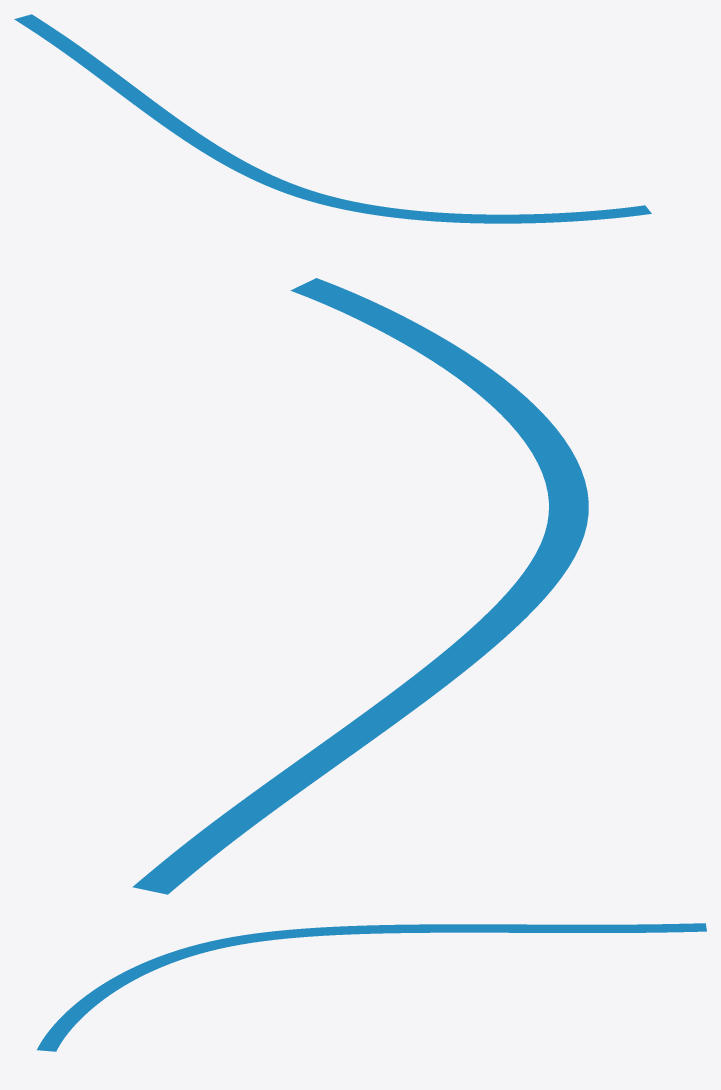
The model's file is guide.glb.
3 views of the same model, one above another, from view 1: azimuth 30°, elevation 25°; view 2: azimuth 150°, elevation 25°; view 3: azimuth 270°, elevation 25° (orthographic). The views are drawn at different scales.
Visible parts, largest first — view 1: static; view 2: static; view 3: static.
Part boxes in pixels (x1=…): static: x1=14, y1=14, x2=651, y2=223; static: x1=132, y1=278, x2=588, y2=894; static: x1=37, y1=923, x2=706, y2=1051.
Bounding box in the file's own units: 5.8 × 0 × 11.13.
